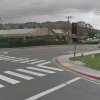crosswalk: (0, 65, 62, 87), (0, 55, 52, 65)
